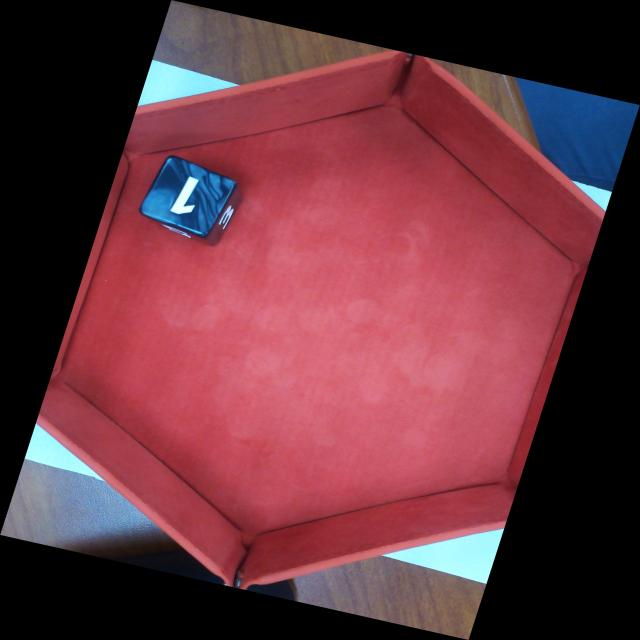dice: (142, 156, 237, 238)
